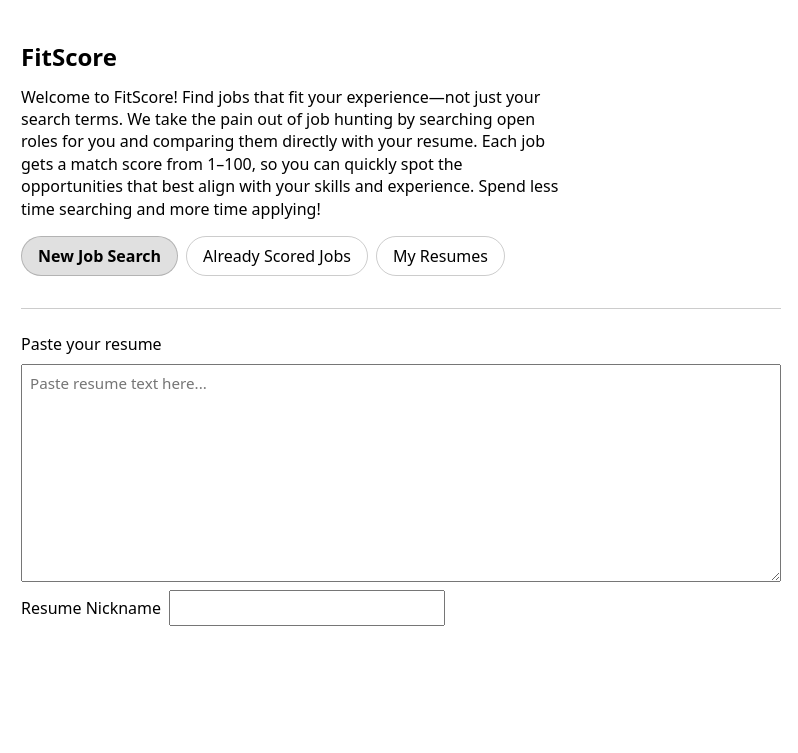
Scenario: App — the 'Change' picker (ticket 88f11d7) › 'Use Resume 8' fetches it via GET /resumes/:id and adopts it directly -- never POST /resumes
Type "some resume text" into the text box labelled "Paste your resume" at (401, 473), box [21,364,781,582]
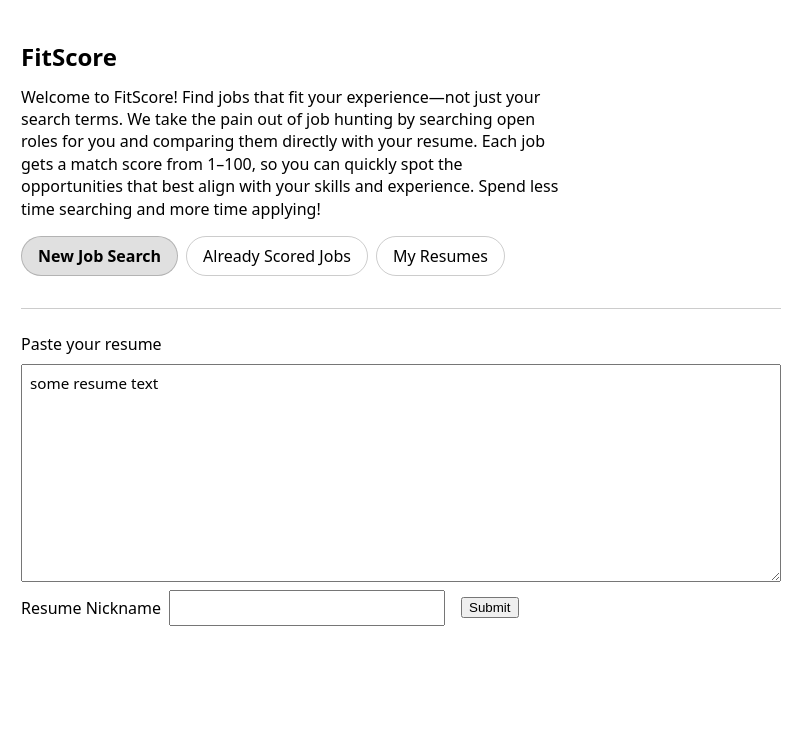
Click the button "Submit" at (490, 608), box [461,597,518,618]
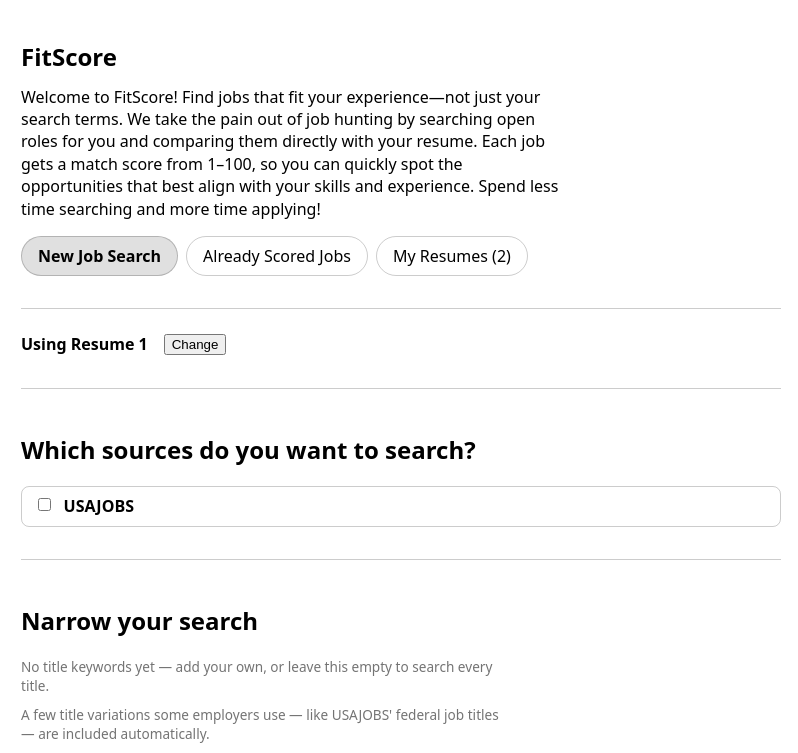
Click the button with aria-label "Change resume" at (195, 345), box [164,334,226,355]
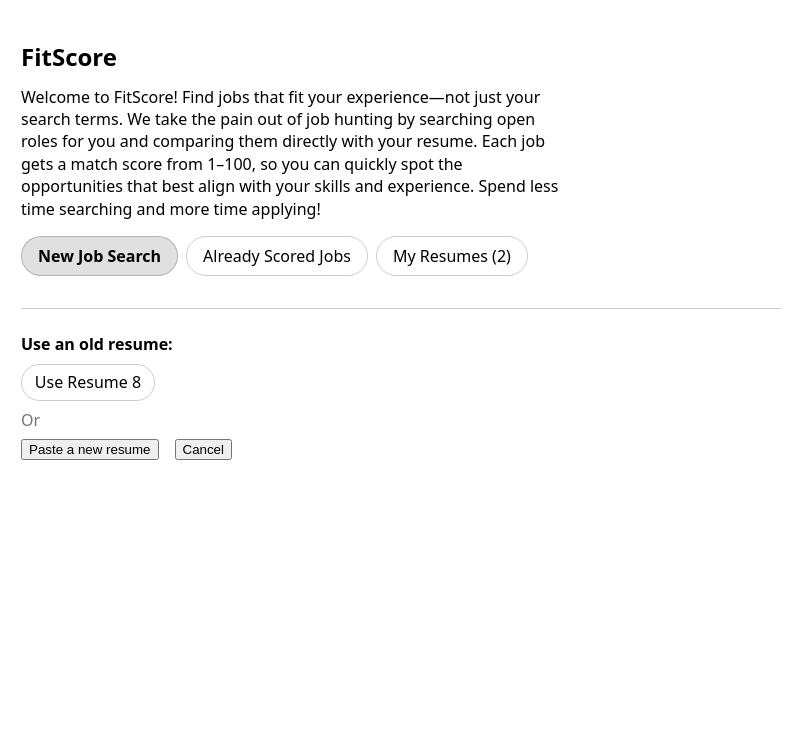
Click the button "Use Resume 8" at (88, 382), box [21,364,155,401]
(page scrolled)
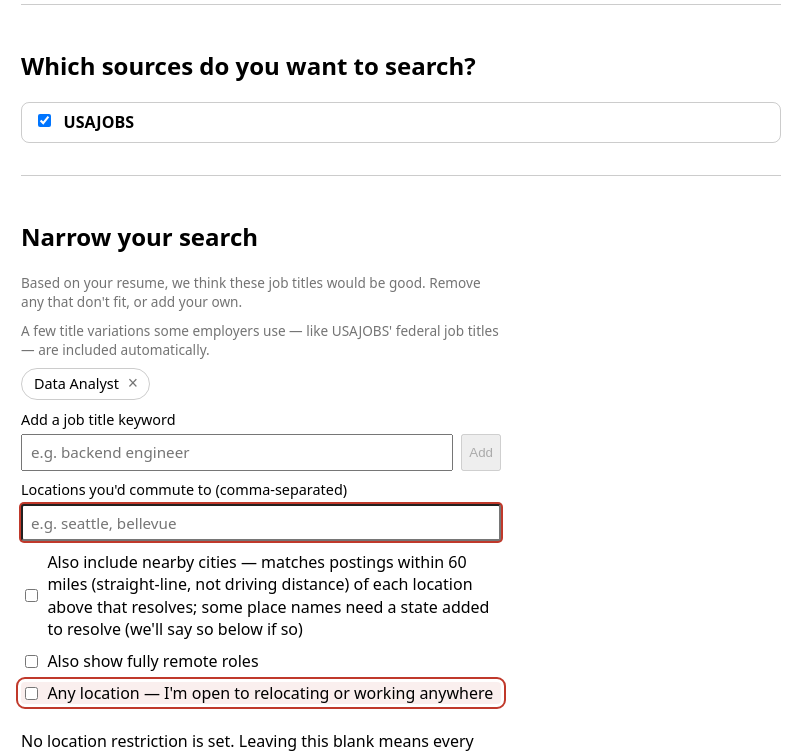
expect the button "Use Resume 8" is gone: met
expect the text "Data Analyst" is shown: met, box [34,374,119,394]
